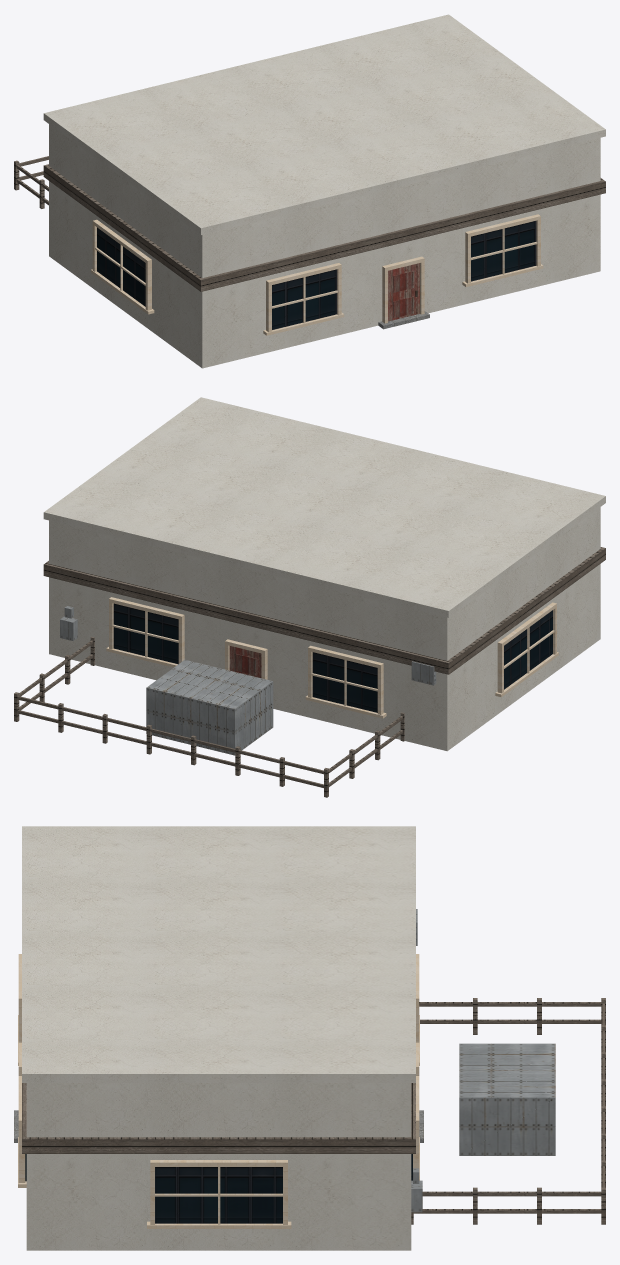
File: little-acorns-daycare_lod0.gltf
3 renders of one model, top to bottom at view 1: azimuth 30°, elevation 25°; view 2: azimuth 150°, elevation 25°; view 3: azimuth 270°, elevation 25°, orthographic. The views are drawn at different scales.
Parts seen in each view (by area): view 1: little-acorns-daycare__parapet, little-acorns-daycare_main, little-acorns-daycare__timber_band, little-acorns-daycare_fen_07-glass-curtain-blue_5_t, little-acorns-daycare_fen_04-limestone_0, little-acorns-daycare_fen_19-red-timber_1, little-acorns-daycare_fen_19-red-timber_2_t; view 2: little-acorns-daycare__parapet, little-acorns-daycare_main, little-acorns-daycare__play_equipment, little-acorns-daycare__timber_band, little-acorns-daycare_fen_07-glass-curtain-blue_5_t, little-acorns-daycare_fen_04-limestone_0, little-acorns-daycare__fence_back, little-acorns-daycare__fence_side_a, little-acorns-daycare__fence_side_b, little-acorns-daycare_fen_14-steel-panel_6; view 3: little-acorns-daycare__parapet, little-acorns-daycare_main, little-acorns-daycare__play_equipment, little-acorns-daycare__timber_band, little-acorns-daycare_fen_07-glass-curtain-blue_5_t, little-acorns-daycare_fen_04-limestone_0, little-acorns-daycare__fence_side_b, little-acorns-daycare__fence_side_a, little-acorns-daycare__fence_back.
Boxes of the visible parts, bbox=[...] form: little-acorns-daycare__parapet: bbox=[43, 14, 605, 234]; little-acorns-daycare_main: bbox=[49, 124, 600, 368]; little-acorns-daycare__timber_band: bbox=[43, 164, 605, 291]; little-acorns-daycare_fen_07-glass-curtain-blue_5_t: bbox=[97, 221, 536, 329]; little-acorns-daycare_fen_04-limestone_0: bbox=[91, 214, 543, 335]; little-acorns-daycare_fen_19-red-timber_1: bbox=[388, 263, 419, 321]; little-acorns-daycare_fen_19-red-timber_2_t: bbox=[393, 271, 413, 318]; little-acorns-daycare__parapet: bbox=[43, 397, 605, 617]; little-acorns-daycare_main: bbox=[49, 507, 600, 751]; little-acorns-daycare__play_equipment: bbox=[146, 659, 273, 755]; little-acorns-daycare__timber_band: bbox=[43, 547, 605, 674]; little-acorns-daycare_fen_07-glass-curtain-blue_5_t: bbox=[113, 603, 552, 712]; little-acorns-daycare_fen_04-limestone_0: bbox=[106, 597, 558, 718]; little-acorns-daycare__fence_back: bbox=[14, 692, 328, 797]; little-acorns-daycare__fence_side_a: bbox=[329, 712, 404, 786]; little-acorns-daycare__fence_side_b: bbox=[19, 636, 94, 710]; little-acorns-daycare_fen_14-steel-panel_6: bbox=[60, 606, 436, 685]; little-acorns-daycare__parapet: bbox=[22, 826, 415, 1082]; little-acorns-daycare_main: bbox=[26, 1083, 411, 1250]; little-acorns-daycare__play_equipment: bbox=[459, 1043, 555, 1155]; little-acorns-daycare__timber_band: bbox=[22, 1083, 415, 1153]; little-acorns-daycare_fen_07-glass-curtain-blue_5_t: bbox=[25, 1154, 412, 1223]; little-acorns-daycare_fen_04-limestone_0: bbox=[18, 954, 419, 1228]; little-acorns-daycare__fence_side_b: bbox=[411, 1187, 601, 1224]; little-acorns-daycare__fence_side_a: bbox=[419, 998, 601, 1034]; little-acorns-daycare__fence_back: bbox=[601, 998, 605, 1224].
Bounding box in the file's own units: 18.55 × 6.15 × 18.47.
